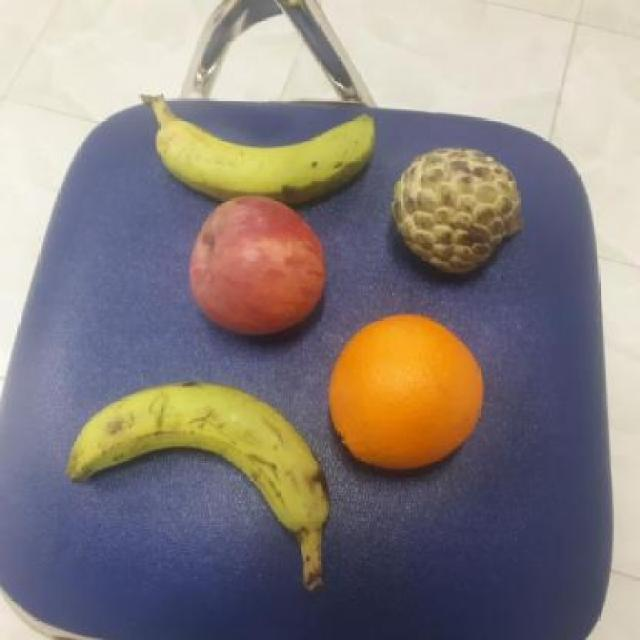apple: (182, 194, 329, 338)
banana: (62, 378, 333, 539), (153, 103, 390, 202)
oren: (325, 310, 493, 472)
sugar apple: (386, 143, 525, 274)
